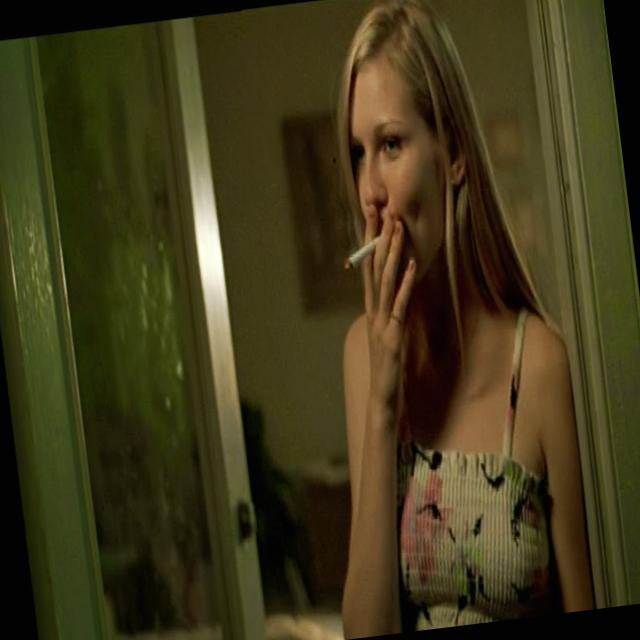smoke: (336, 232, 395, 274)
